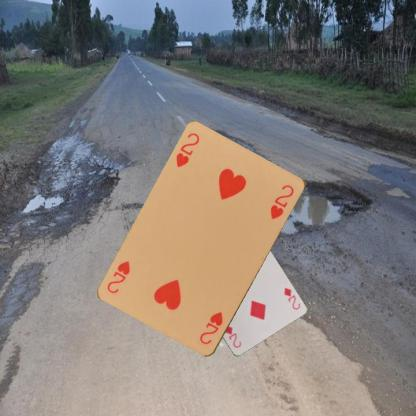2d: (281, 285, 301, 311)
2h: (173, 130, 201, 169), (197, 309, 224, 346)
